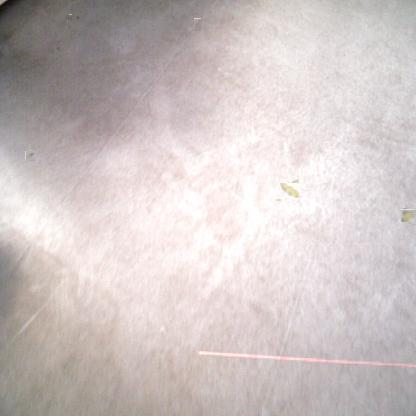dirty: (282, 181, 300, 199), (402, 208, 416, 223)
mark: (193, 18, 202, 31), (26, 151, 36, 160), (275, 195, 284, 204), (55, 44, 61, 52), (74, 12, 80, 20), (68, 14, 72, 23)
